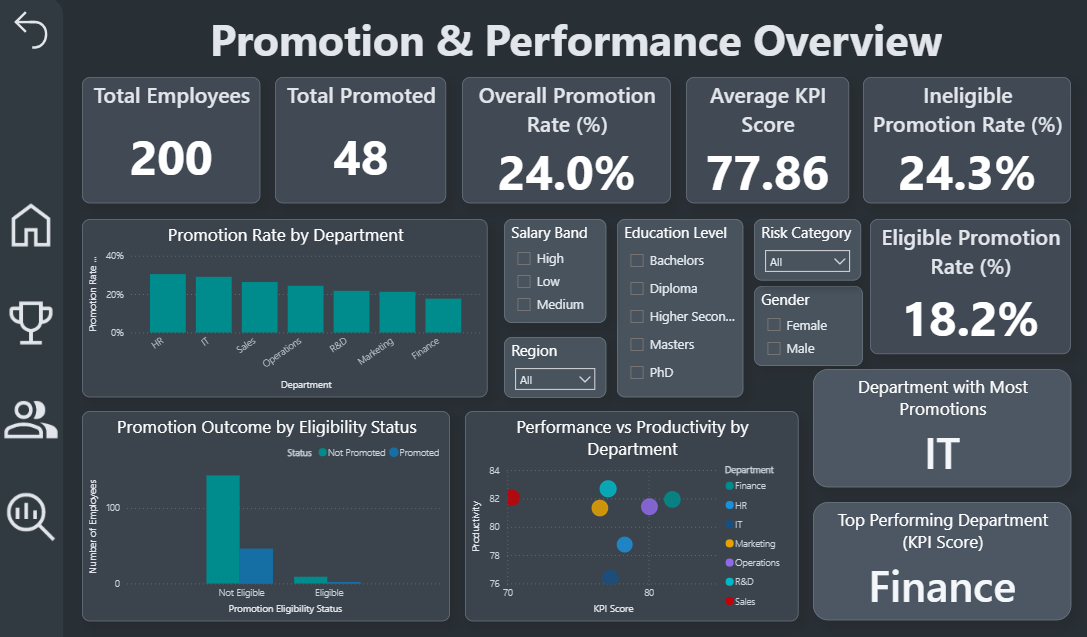

Layout of this report page (visuals, bound fields, positions):
{"tool":"powerbi","page":{"name":"Performance & Promotion Analysis","canvas":[1360,800],"ordinal":1},"visuals":[{"type":"shape","box":[0,0,80,800],"z":0,"group":"g1"},{"type":"card","title":"Total Employees","fields":{"Values":["Measure Table.Total Employees"]},"box":[103.8,99.1,222.9,157.8],"z":0},{"type":"card","title":"Average KPI Score","fields":{"Values":["Measure Table.Average KPI Score"]},"box":[859.2,99.1,203.6,157.8],"z":1000},{"type":"actionButton","title":"reset","box":[0,10,80,60],"z":2000,"group":"g1"},{"type":"card","title":"Ineligible Promotion Rate (%)","fields":{"Values":["Measure Table.Ineligible Promotion Rate"]},"box":[1079.7,99.1,260.2,157.8],"z":2000},{"type":"card","title":"Total Promoted","fields":{"Values":["Measure Table.Total Promoted"]},"box":[344.7,99.1,214.5,157.8],"z":3000},{"type":"shape","box":[103.8,0,1235,98.8],"z":4000},{"type":"actionButton","box":[0,243.8,80,80],"z":4000,"group":"g1"},{"type":"card","title":"Overall Promotion Rate (%)","fields":{"Values":["Measure Table.Promotion Rate %"]},"box":[578.4,99.1,261.4,157.8],"z":5000},{"type":"actionButton","box":[0,486.2,80,80],"z":5000,"group":"g1"},{"type":"clusteredColumnChart","title":"Promotion Rate by Department","fields":{"Category":["Employees.department"],"Y":["Measure Table.Promotion Rate %"]},"box":[103.8,276.2,507.2,222.9],"z":6000},{"type":"actionButton","box":[0,608.8,80,80],"z":6000,"group":"g1"},{"type":"actionButton","box":[0,366.2,80,80],"z":7000,"group":"g1"},{"type":"scatterChart","title":"Performance vs Productivity by Department","fields":{"Y":["Measure Table.Average Productivity"],"X":["Measure Table.Average KPI Score"],"Size":["Measure Table.Average Engagement"],"Category":["Employees.department"],"Series":["Employees.department"]},"box":[582.1,515.9,416.9,262.7],"z":7000},{"type":"clusteredColumnChart","title":"Promotion Outcome by Eligibility Status","fields":{"Category":["Employees.Promotion_Eligibility"],"Y":["Measure Table.Total Employees"],"Series":["Employees.Promotion Status"]},"box":[103.8,515.9,460.2,262.7],"z":8000},{"type":"group","id":"g1","title":"Group 2","box":[0,0,80,800],"z":9000},{"type":"slicer","title":"Gender","fields":{"Values":["Employees.gender"]},"box":[943.5,360.5,136.1,100],"z":10000},{"type":"slicer","title":"Region","fields":{"Values":["Employees.region"]},"box":[631.5,423.2,127.7,75.9],"z":11000},{"type":"slicer","title":"Education Level","fields":{"Values":["Employees.education"]},"box":[772.4,276.2,157.8,222.9],"z":12000},{"type":"slicer","title":"Salary Band","fields":{"Values":["Employees.salary_band"]},"box":[631.5,276.2,127.7,130],"z":13000},{"type":"slicer","title":"Risk Category","fields":{"Values":["Employees.Risk Category"]},"box":[943.5,276.2,133.7,77.1],"z":14000},{"type":"card","title":"Top Performing Department (KPI Score)","fields":{"Values":["Min(Employees.department)"]},"box":[1017,630.4,322.9,148.2],"z":15000},{"type":"card","title":"Department with Most Promotions","fields":{"Values":["Min(Employees.department)"]},"box":[1017,464.1,322.9,148.2],"z":16000},{"type":"card","title":"Eligible Promotion Rate (%)","fields":{"Values":["Measure Table.Eligible Promotion Rate"]},"box":[1089.3,276.2,250.6,168.7],"z":17000}]}

Visuals, with their boxes on the page's 1360x800 design canvas (x1, y1, x2, y2). These are canvas units, not pixel positions in the 1087x637 screenshot, which may show the page scaled, cropped or inside an application window:
shape: 0,0,80,800
"Total Employees" card: 104,99,327,257
"Average KPI Score" card: 859,99,1063,257
"reset" actionButton: 0,10,80,70
"Ineligible Promotion Rate (%)" card: 1080,99,1340,257
"Total Promoted" card: 345,99,559,257
shape: 104,0,1339,99
actionButton: 0,244,80,324
"Overall Promotion Rate (%)" card: 578,99,840,257
actionButton: 0,486,80,566
"Promotion Rate by Department" clusteredColumnChart: 104,276,611,499
actionButton: 0,609,80,689
actionButton: 0,366,80,446
"Performance vs Productivity by Department" scatterChart: 582,516,999,779
"Promotion Outcome by Eligibility Status" clusteredColumnChart: 104,516,564,779
"Group 2" group: 0,0,80,800
"Gender" slicer: 944,360,1080,460
"Region" slicer: 632,423,759,499
"Education Level" slicer: 772,276,930,499
"Salary Band" slicer: 632,276,759,406
"Risk Category" slicer: 944,276,1077,353
"Top Performing Department (KPI Score)" card: 1017,630,1340,779
"Department with Most Promotions" card: 1017,464,1340,612
"Eligible Promotion Rate (%)" card: 1089,276,1340,445
